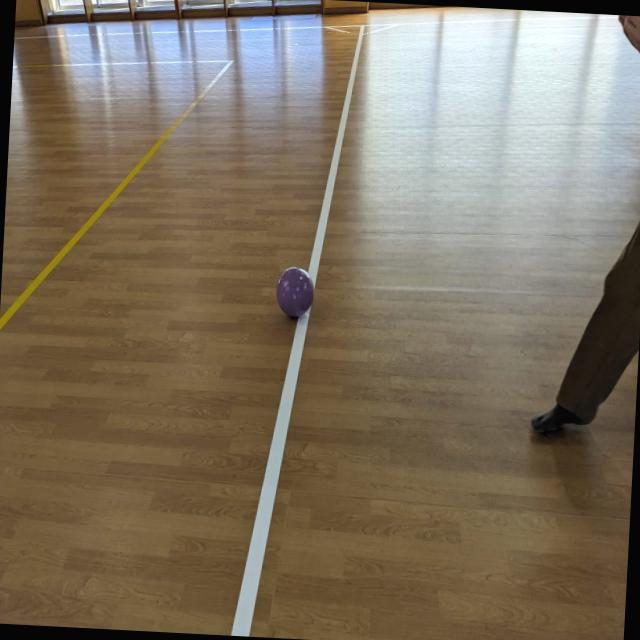purple_ball: (274, 264, 317, 319)
